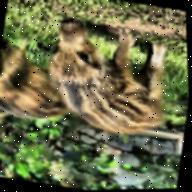boar: (36, 13, 181, 144)
